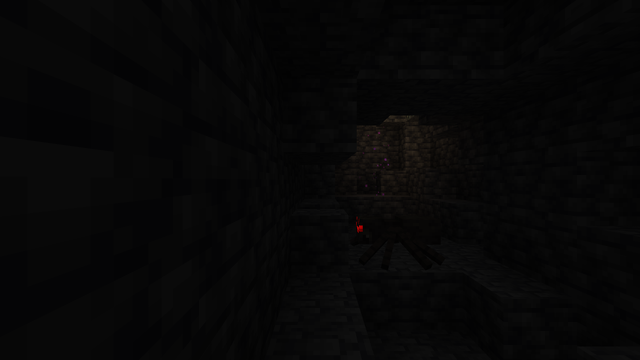araignees: (353, 209, 437, 265)
